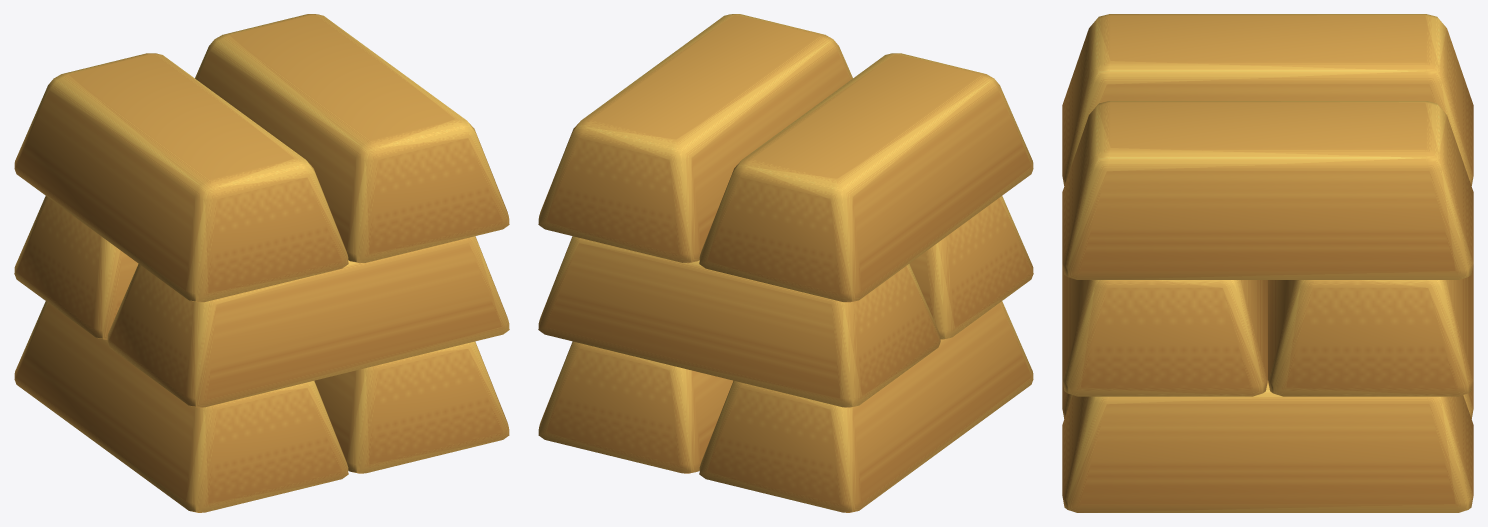
Rendered from Gold_Bars_Stack_Small.gltf.
3 views of the same model, side by side, from view 1: azimuth 30°, elevation 25°; view 2: azimuth 150°, elevation 25°; view 3: azimuth 270°, elevation 25° (orthographic). The views are drawn at different scales.
Visible parts, largest first — view 1: Gold_Bars_Stack_Small; view 2: Gold_Bars_Stack_Small; view 3: Gold_Bars_Stack_Small.
Boxes of the visible parts, box(x1,y1,x2,y2) form: Gold_Bars_Stack_Small: box(14, 14, 509, 512); Gold_Bars_Stack_Small: box(538, 14, 1033, 512); Gold_Bars_Stack_Small: box(1062, 14, 1473, 512).
Bounding box in the file's own units: 0.8 × 0.75 × 0.8.
1 material, 1 textured.
